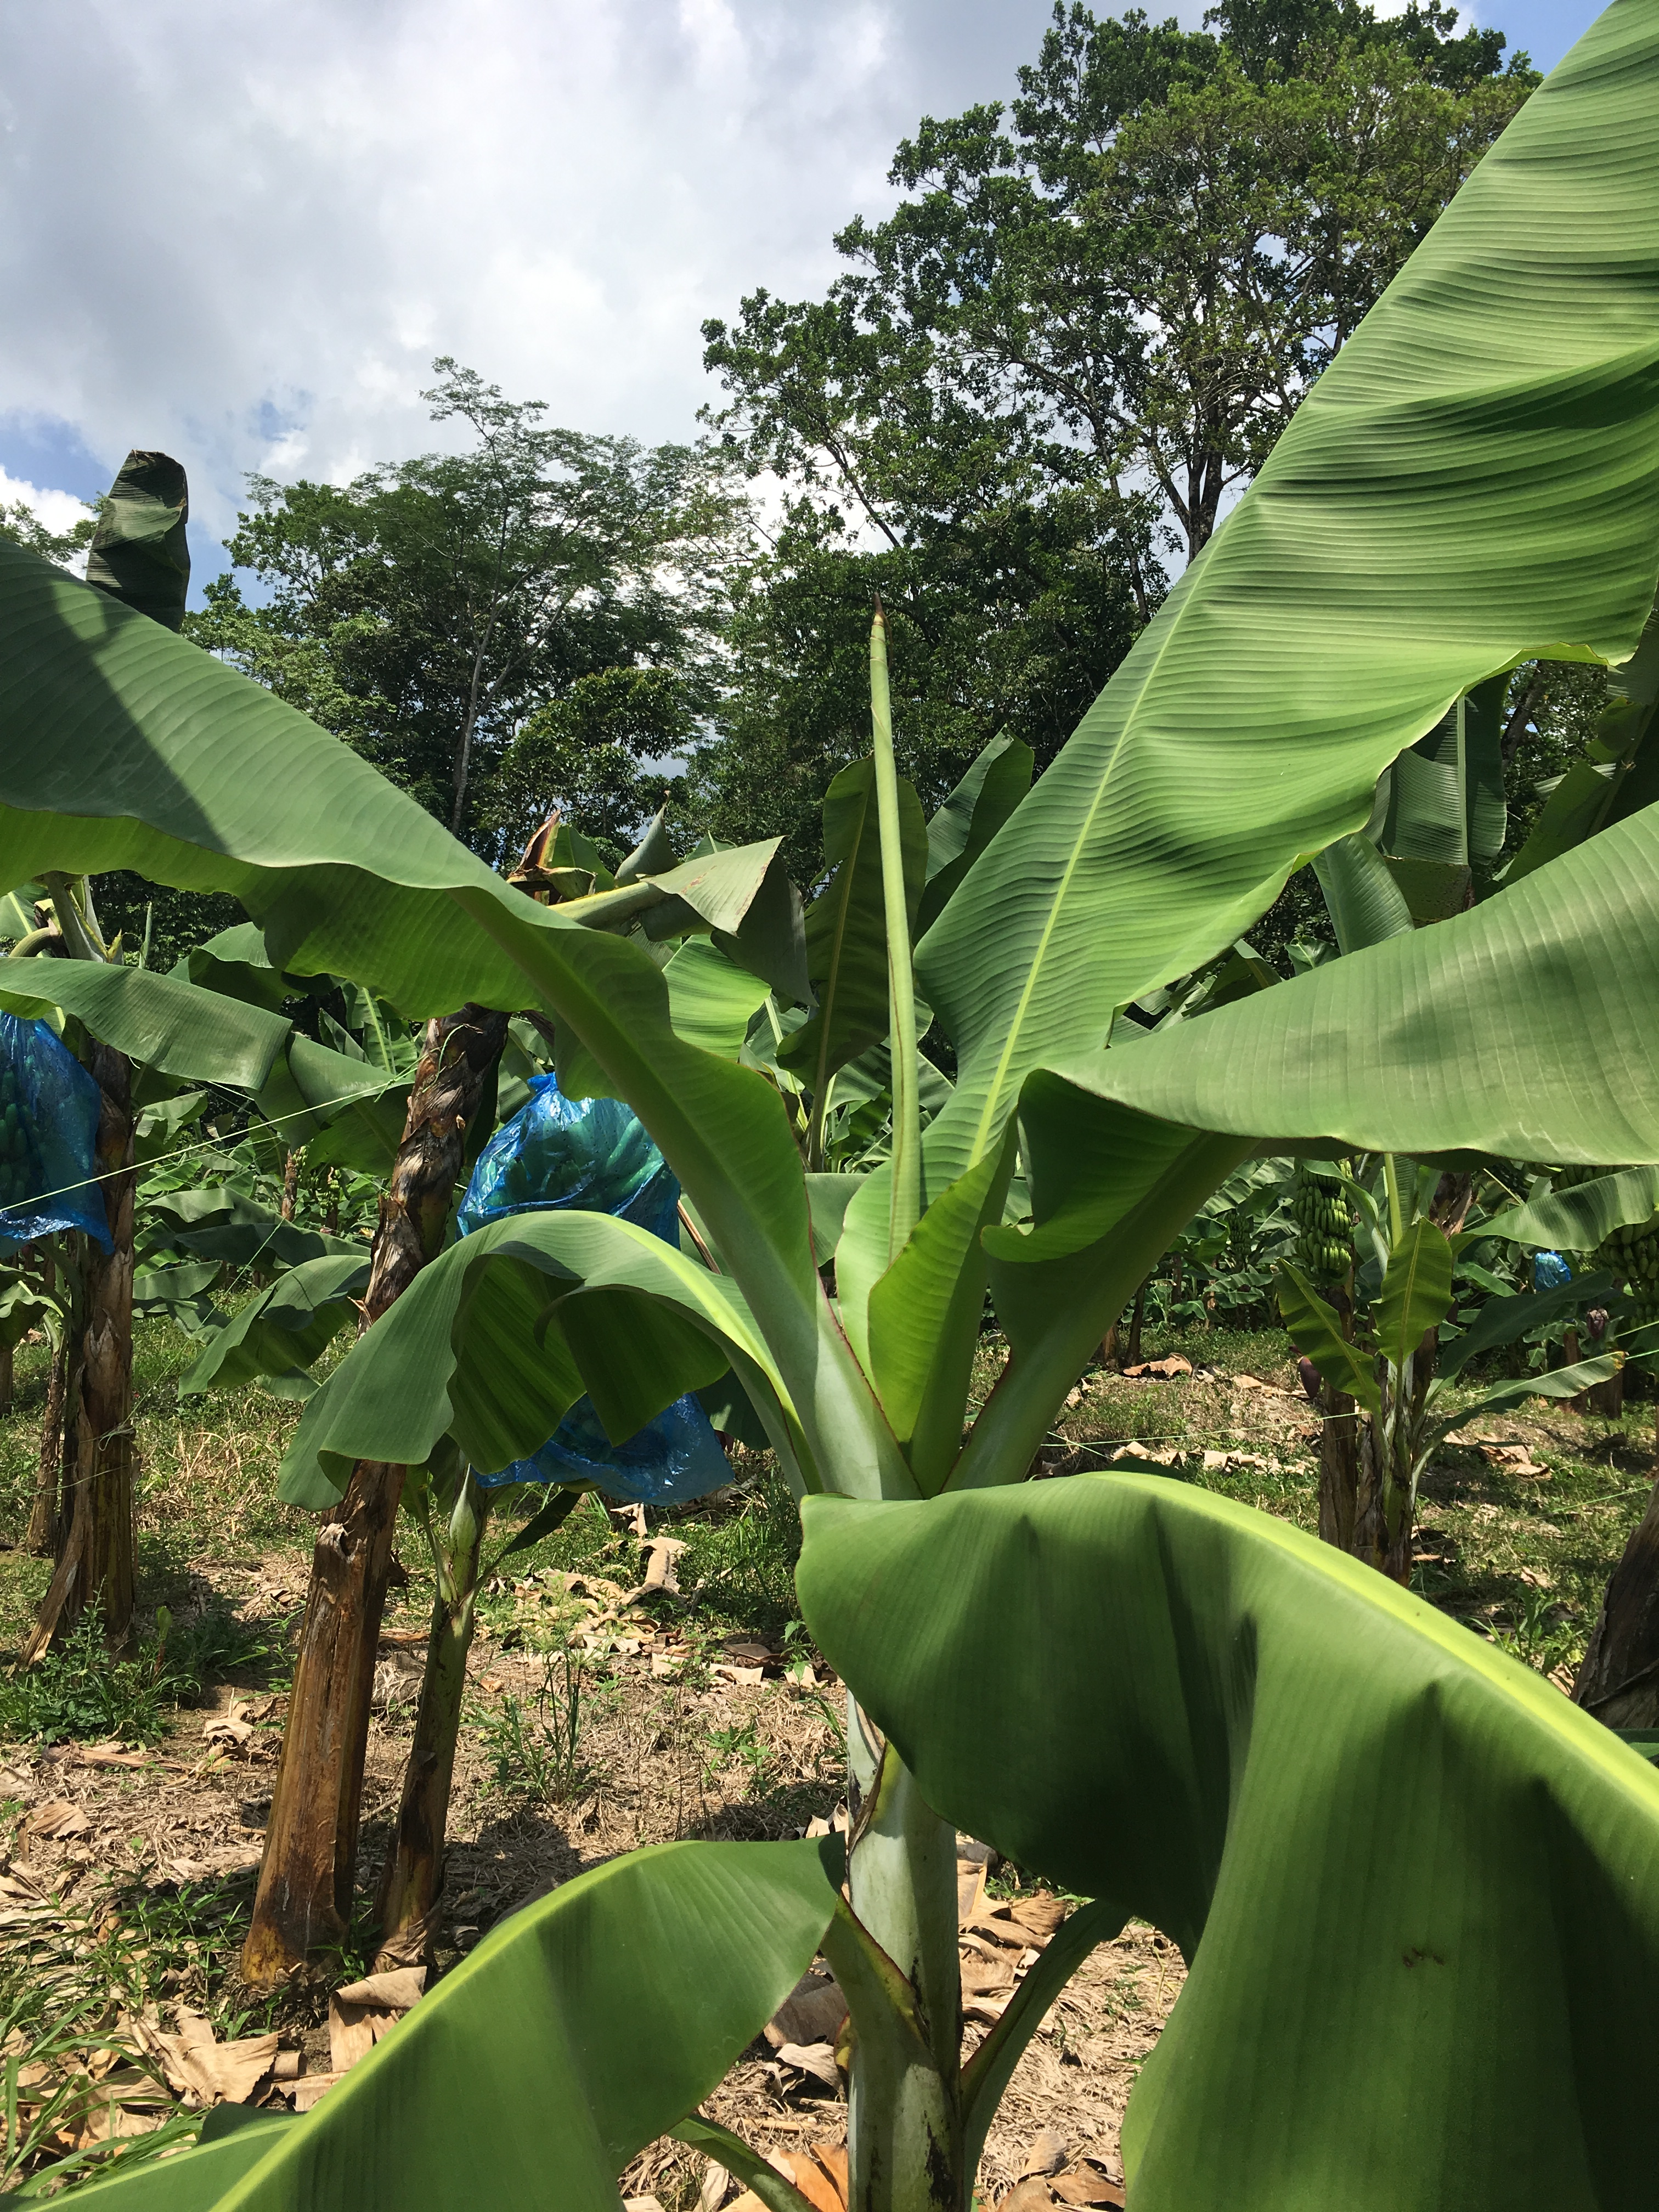candleleafs: (868, 587, 922, 1259)
